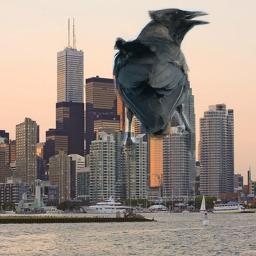Crow: (112, 3, 211, 161)
